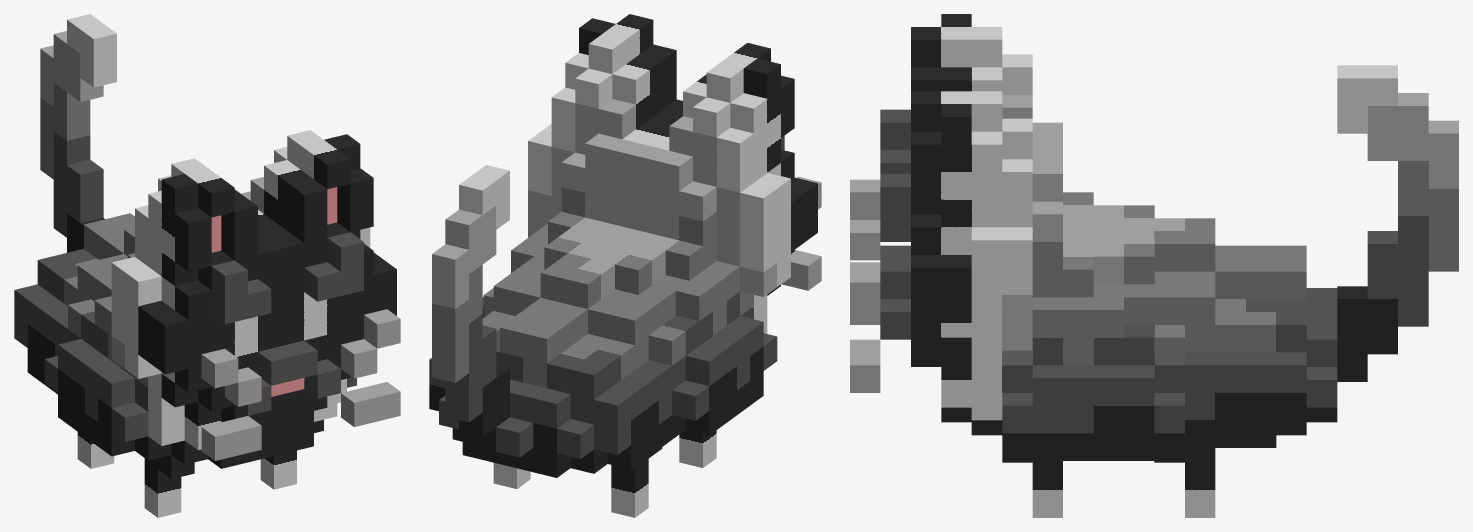
The model's file is skin_noir.fbx.
The picture shows the model from 3 angles, left to right: view 1: azimuth 30°, elevation 25°; view 2: azimuth 150°, elevation 25°; view 3: azimuth 270°, elevation 25°; orthographic projection. The views are drawn at different scales.
Visible parts, largest first — view 1: skin_10-5, skin_10-0, skin_10-4, skin_10-2, skin_10-3; view 2: skin_10-5, skin_10-0, skin_10-3, skin_10-4, skin_10-1; view 3: skin_10-5, skin_10-0, skin_10-1, skin_10-2.
Boxes of the visible parts, left/top/right/bottom form: skin_10-5: left=14, top=130, right=400, bottom=468; skin_10-0: left=40, top=14, right=116, bottom=252; skin_10-4: left=144, top=455, right=194, bottom=517; skin_10-2: left=260, top=450, right=296, bottom=489; skin_10-3: left=77, top=432, right=114, bottom=468; skin_10-5: left=429, top=14, right=821, bottom=477; skin_10-0: left=432, top=165, right=509, bottom=436; skin_10-3: left=611, top=447, right=662, bottom=517; skin_10-4: left=679, top=430, right=716, bottom=467; skin_10-1: left=493, top=463, right=530, bottom=488; skin_10-5: left=850, top=14, right=1367, bottom=460; skin_10-0: left=1337, top=65, right=1458, bottom=354; skin_10-1: left=1154, top=448, right=1215, bottom=517; skin_10-2: left=1002, top=448, right=1062, bottom=517.
Bounding box in the file's own units: 100 × 150 × 200.
Materials: 1 (1 with a texture image).
